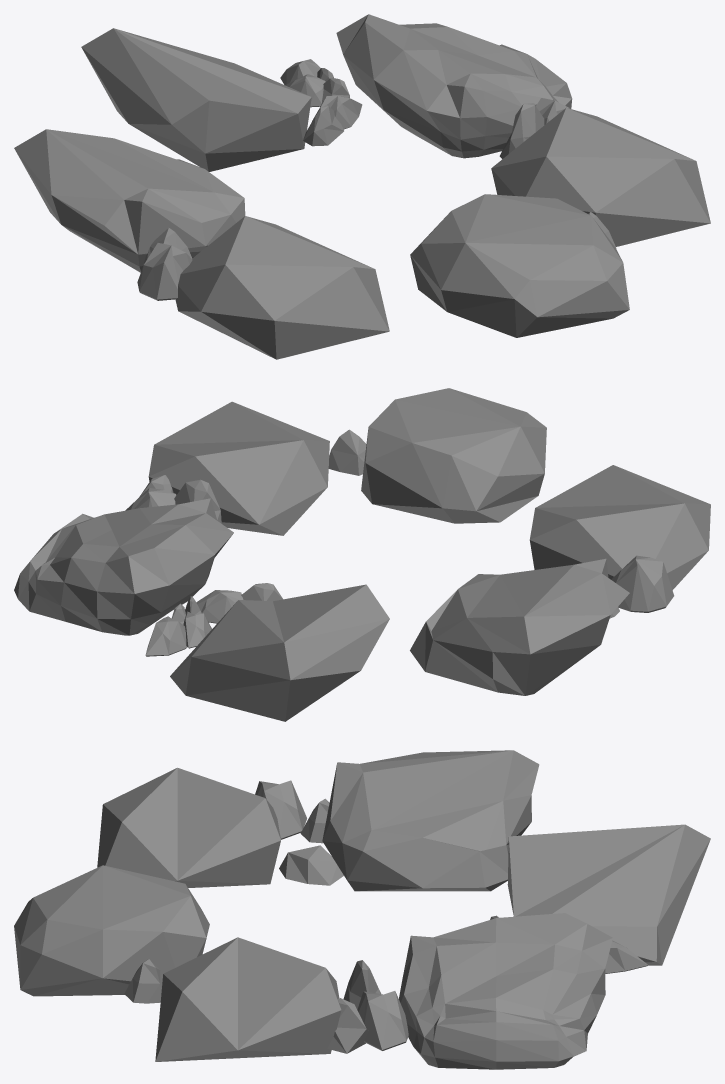
The model's file is rockbarrier_02_b.fbx.
3 renders of one model, top to bottom at view 1: azimuth 30°, elevation 25°; view 2: azimuth 150°, elevation 25°; view 3: azimuth 270°, elevation 25°, orthographic.
Parts seen in each view (by area): view 1: RockBarrier_02_b; view 2: RockBarrier_02_b; view 3: RockBarrier_02_b.
Part boxes in pixels (box(x1,y1,x2,y2)): RockBarrier_02_b: box(14, 14, 710, 359); RockBarrier_02_b: box(14, 388, 710, 721); RockBarrier_02_b: box(14, 750, 710, 1069).
Bounding box in the file's own units: 76.85 × 85.09 × 13.08.
